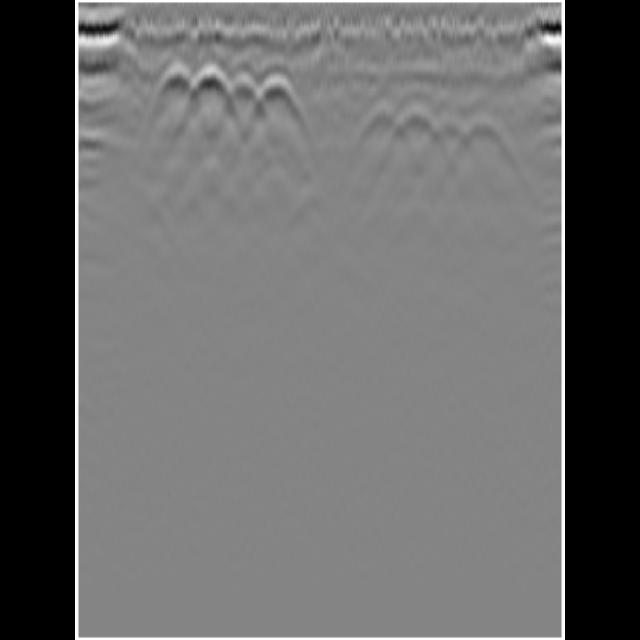hyperbola: (352, 102, 404, 150), (188, 64, 232, 114), (428, 114, 477, 156), (462, 115, 506, 161), (258, 68, 300, 114), (223, 73, 265, 119), (154, 58, 202, 98), (396, 98, 440, 132)
